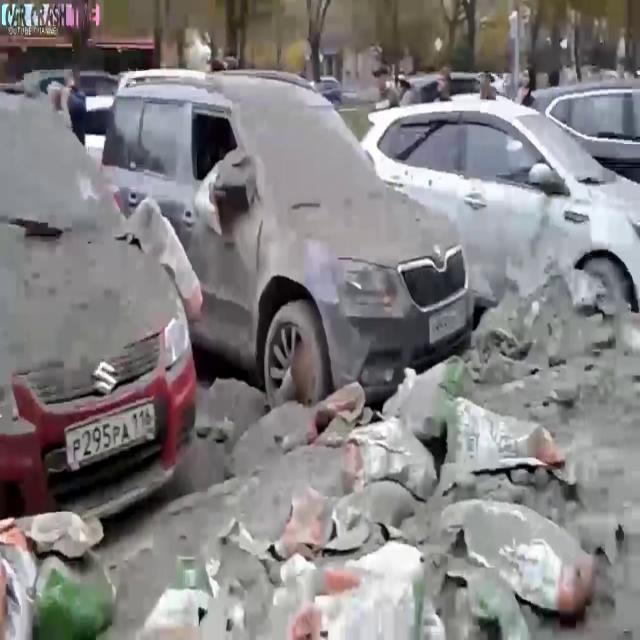Accident: (144, 0, 492, 416), (0, 21, 208, 478)
